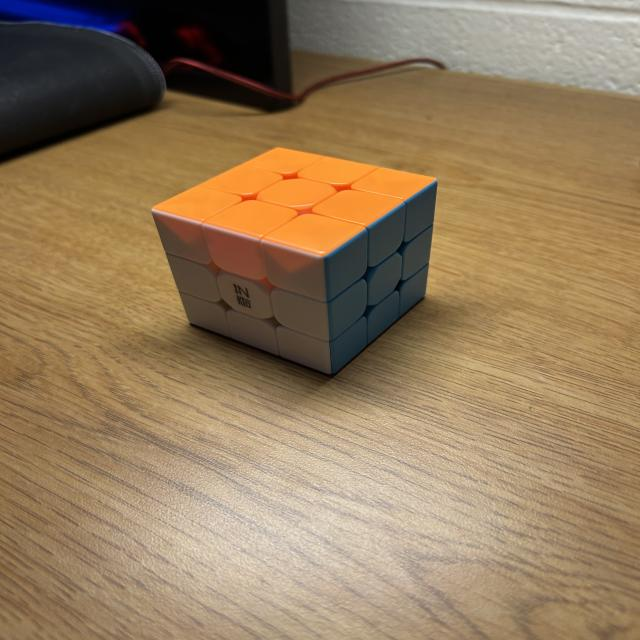Rubiks Cube: (151, 146, 436, 377)
